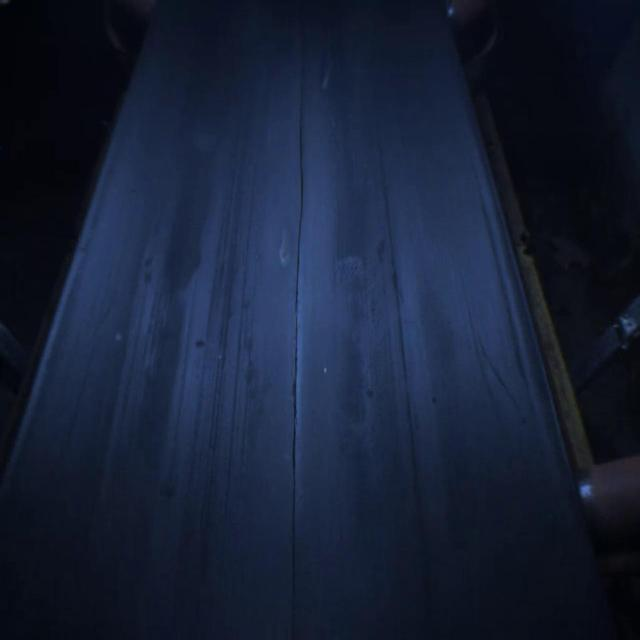Tear: (284, 62, 318, 640)
